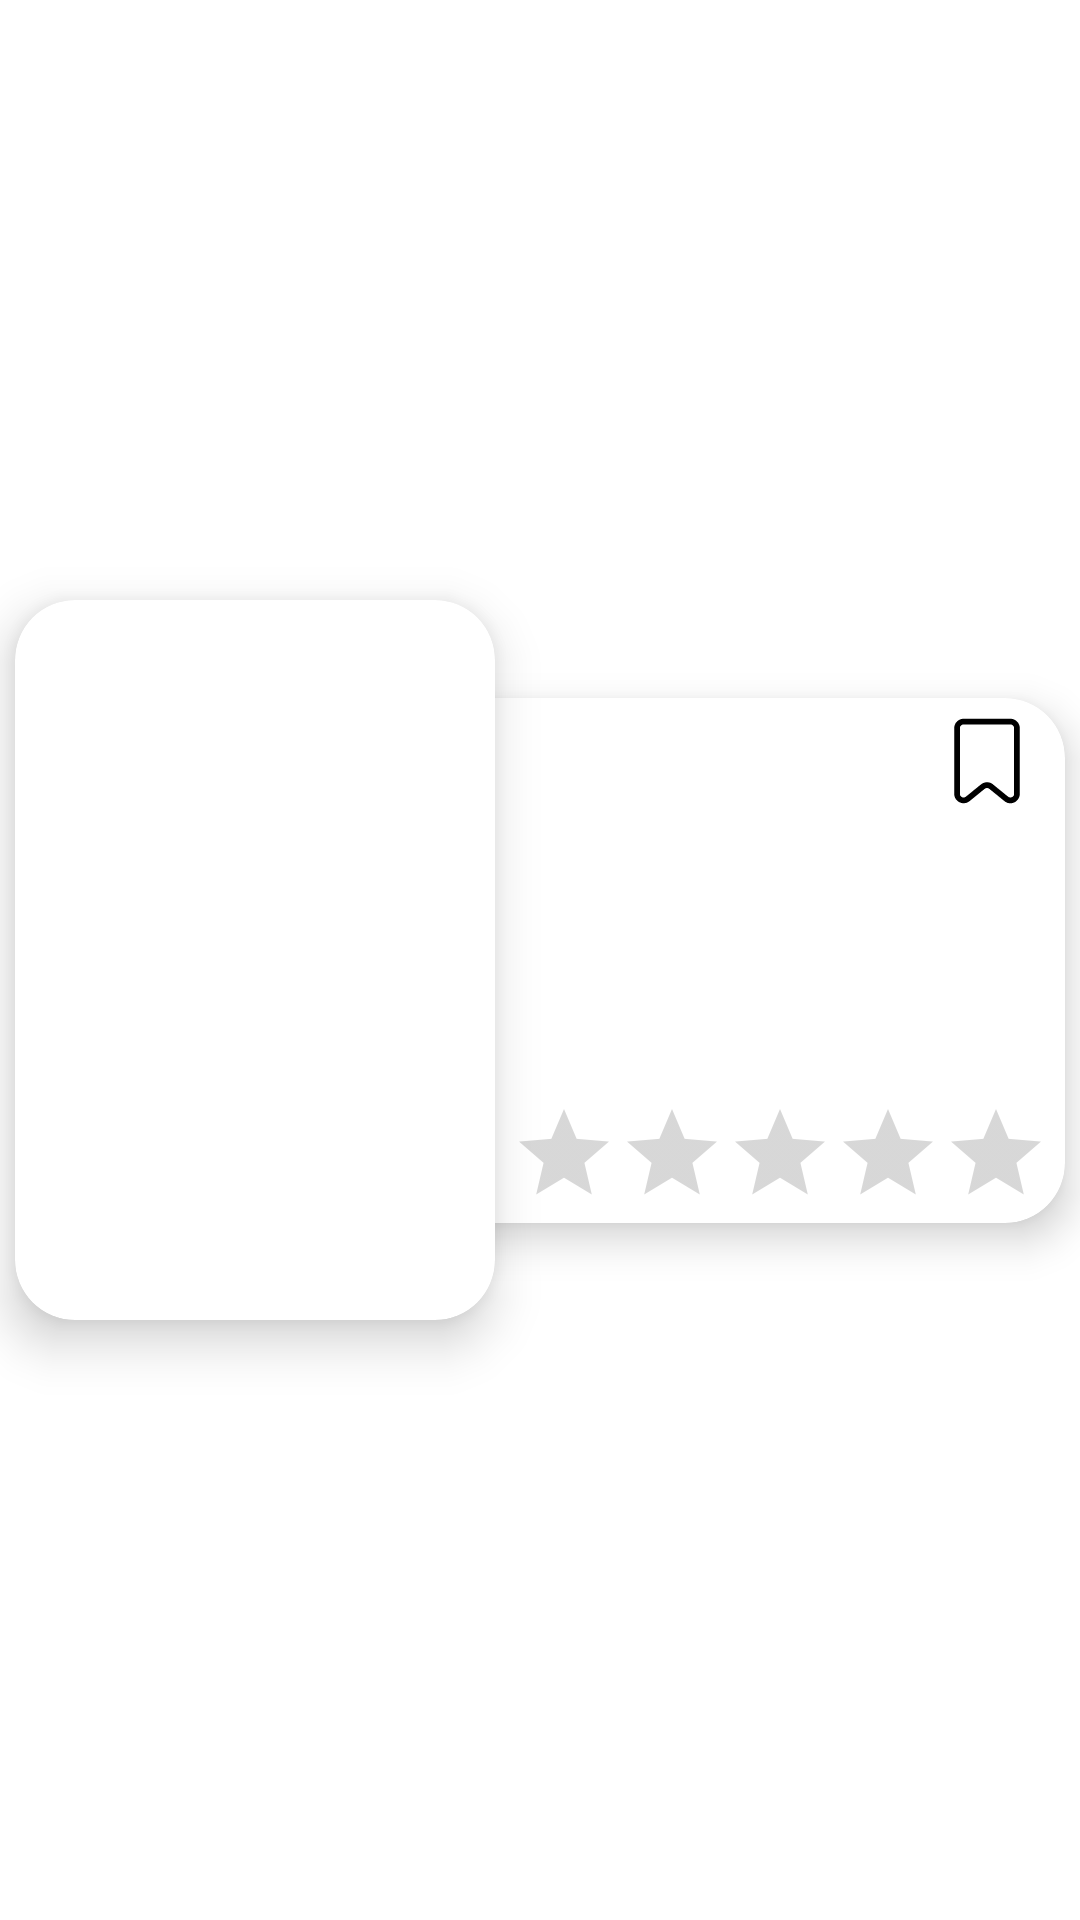

Named icons in this screenshot (1080x1920) and their bounding boxes, (x1, y1, x2, y2):
wishlist empty: (954, 718, 1020, 804)
